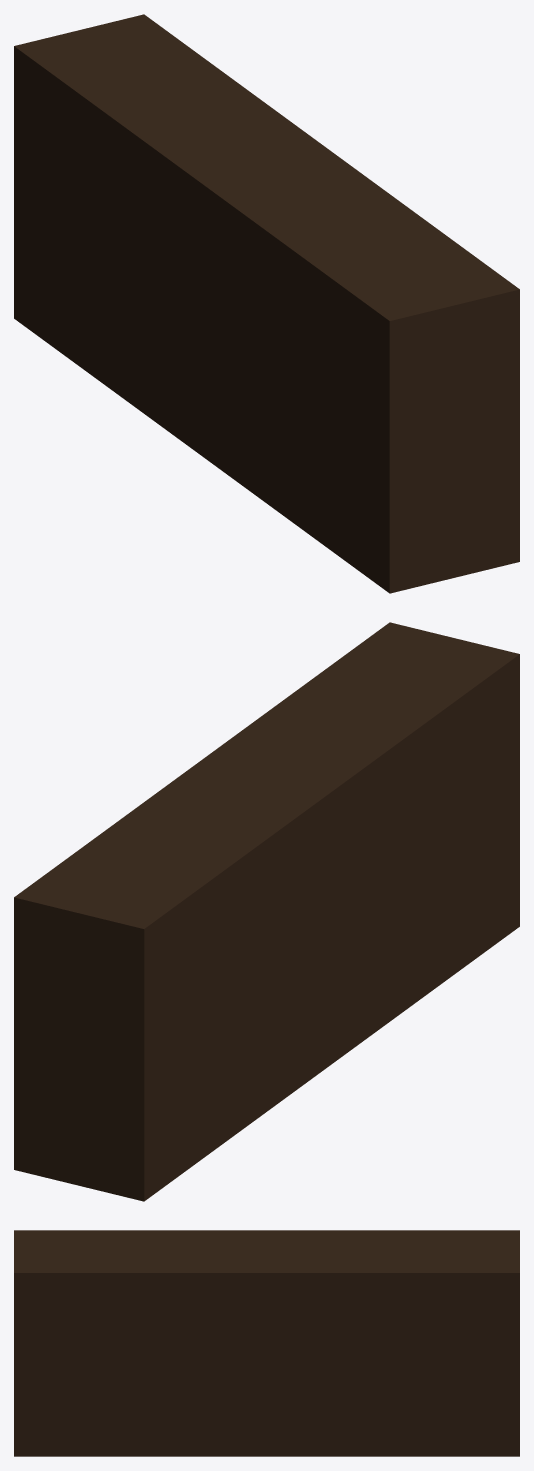
The model's file is acc_hair_mohawk.glb.
3 views of the same model, one above another, from view 1: azimuth 30°, elevation 25°; view 2: azimuth 150°, elevation 25°; view 3: azimuth 270°, elevation 25° (orthographic). The views are drawn at different scales.
Parts seen in each view (by area): view 1: acc_hair_mohawk__mesh; view 2: acc_hair_mohawk__mesh; view 3: acc_hair_mohawk__mesh.
Part boxes in pixels (box(x1,y1,x2,y2)): acc_hair_mohawk__mesh: box(14, 14, 519, 593); acc_hair_mohawk__mesh: box(14, 622, 519, 1201); acc_hair_mohawk__mesh: box(14, 1230, 519, 1456).
Bounding box in the file's own units: 0.05 × 0.1 × 0.25.
